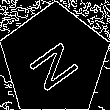N_NE: (24, 29, 86, 92)
